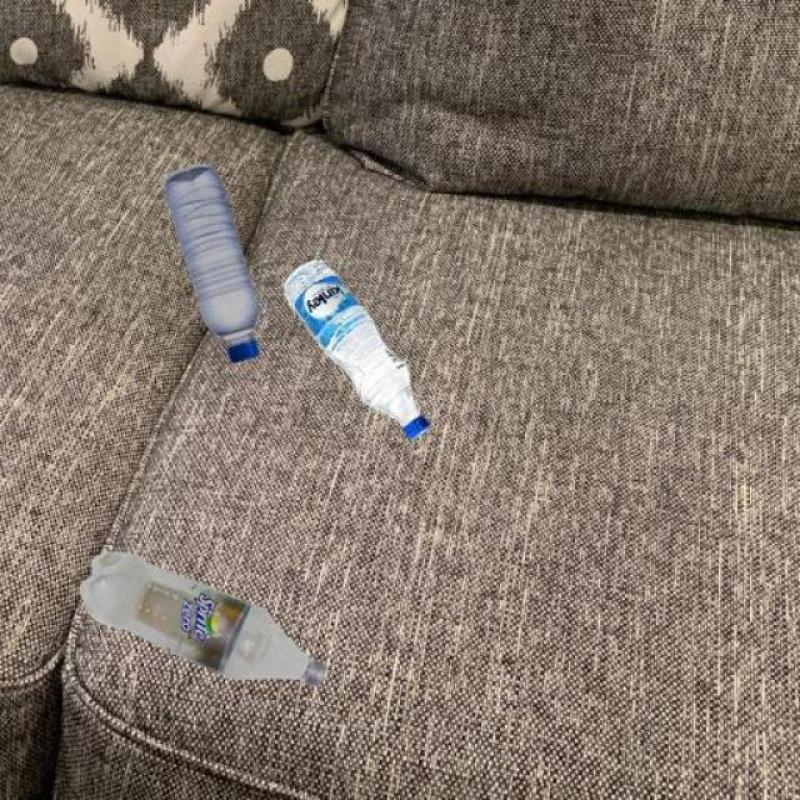botella: (76, 550, 330, 690), (281, 256, 430, 439), (165, 164, 264, 368)
